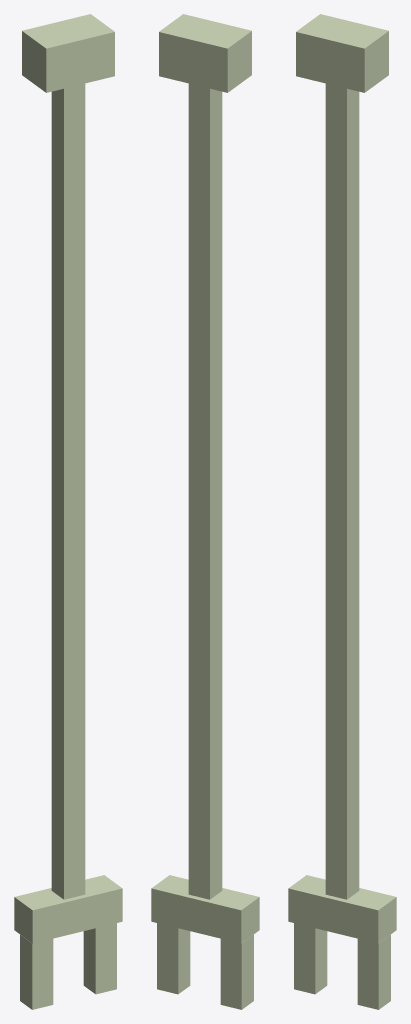
The model's file is furniture_signal_mast_hanger.glb.
3 renders of one model, left to right at view 1: azimuth 30°, elevation 25°; view 2: azimuth 150°, elevation 25°; view 3: azimuth 330°, elevation 25°, orthographic.
Parts seen in each view (by area): view 1: hanger_shaft, hanger_top, hanger_lower, hanger_tab_left, hanger_tab_right; view 2: hanger_shaft, hanger_top, hanger_lower, hanger_tab_left, hanger_tab_right; view 3: hanger_shaft, hanger_top, hanger_lower, hanger_tab_right, hanger_tab_left.
Part boxes in pixels (<box>): hanger_shaft: <box>51,83,85,899</box>; hanger_top: <box>22,14,114,92</box>; hanger_lower: <box>14,875,122,943</box>; hanger_tab_left: <box>20,934,53,1009</box>; hanger_tab_right: <box>83,923,116,994</box>; hanger_shaft: <box>188,83,222,899</box>; hanger_top: <box>159,14,251,92</box>; hanger_lower: <box>151,875,259,943</box>; hanger_tab_left: <box>220,934,253,1009</box>; hanger_tab_right: <box>157,923,190,994</box>; hanger_shaft: <box>325,83,359,899</box>; hanger_top: <box>296,14,388,92</box>; hanger_lower: <box>288,875,396,943</box>; hanger_tab_right: <box>357,934,390,1009</box>; hanger_tab_left: <box>294,923,327,994</box>.
Bounding box in the file's own units: 0.34 × 3.48 × 0.16.
